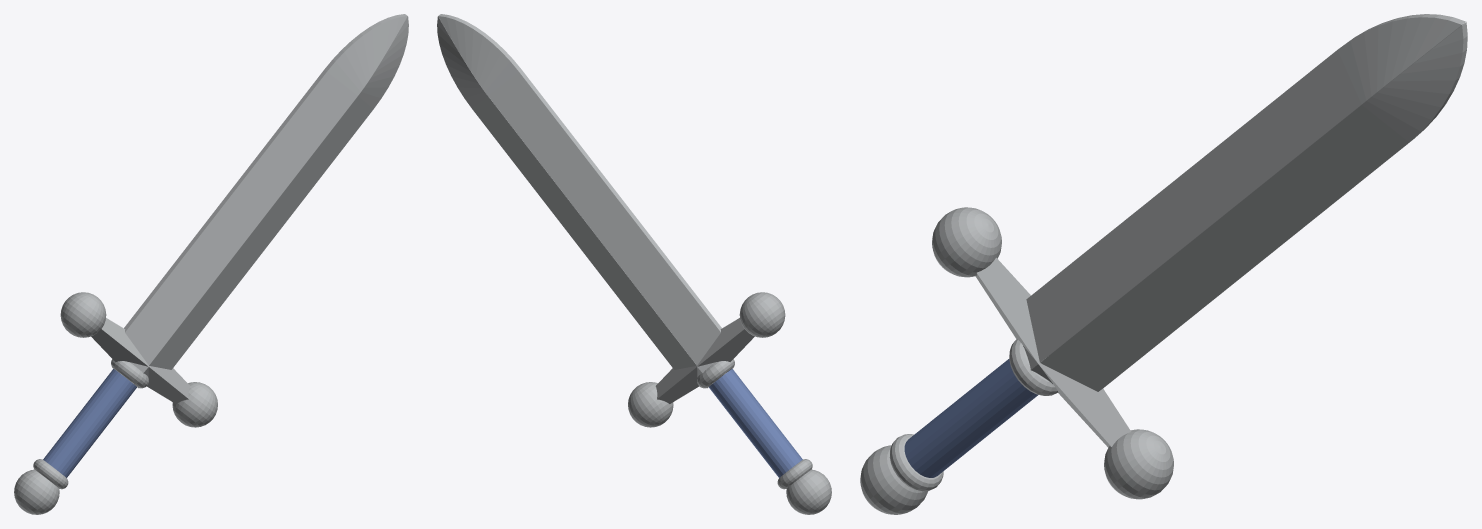
Rendered from Power.glb.
The picture shows the model from 3 angles, left to right: view 1: azimuth 30°, elevation 25°; view 2: azimuth 150°, elevation 25°; view 3: azimuth 330°, elevation 25°; orthographic projection. The views are drawn at different scales.
Parts seen in each view (by area): view 1: Mesh_Mesh_head_geo.001_lambert2SG.001; view 2: Mesh_Mesh_head_geo.001_lambert2SG.001; view 3: Mesh_Mesh_head_geo.001_lambert2SG.001.
Part boxes in pixels (<box>): Mesh_Mesh_head_geo.001_lambert2SG.001: <box>14,14,408,514</box>; Mesh_Mesh_head_geo.001_lambert2SG.001: <box>437,14,831,514</box>; Mesh_Mesh_head_geo.001_lambert2SG.001: <box>860,14,1467,514</box>.
Bounding box in the file's own units: 0.0592 × 0.0592 × 0.006.
